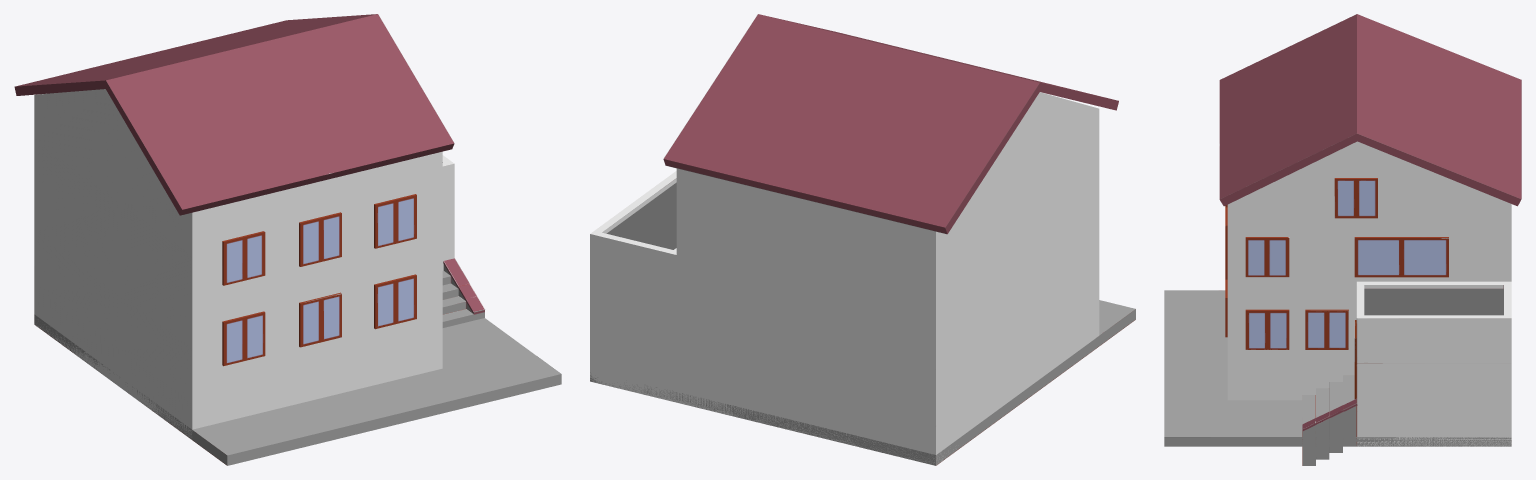
File: home.glb
3 renders of one model, left to right at view 1: azimuth 30°, elevation 25°; view 2: azimuth 150°, elevation 25°; view 3: azimuth 270°, elevation 25°, orthographic. The views are drawn at different scales.
Visible parts, largest first — view 1: Plane.001; view 2: Plane.001; view 3: Plane.001.
Part boxes in pixels (x1=…): Plane.001: x1=14, y1=14, x2=561, y2=465; Plane.001: x1=590, y1=14, x2=1135, y2=465; Plane.001: x1=1164, y1=14, x2=1521, y2=465.
Bounding box in the file's own units: 2.09 × 1.9 × 2.06.
1 material, 1 textured.
